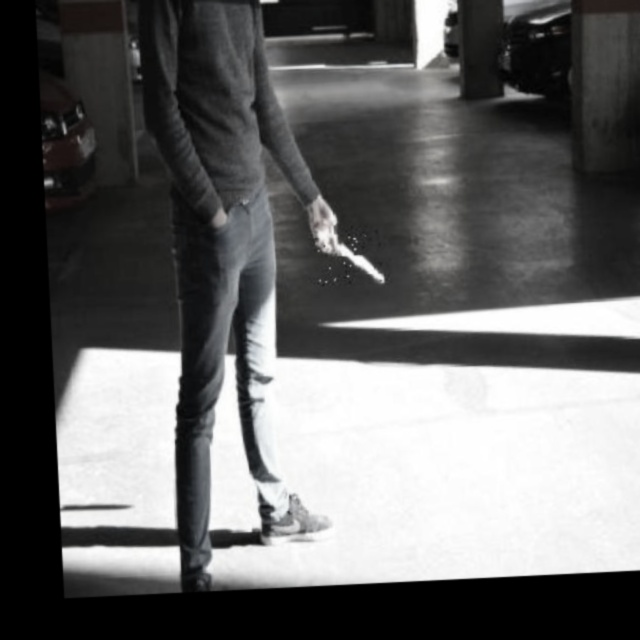Sharp-Object: (315, 219, 384, 287)
